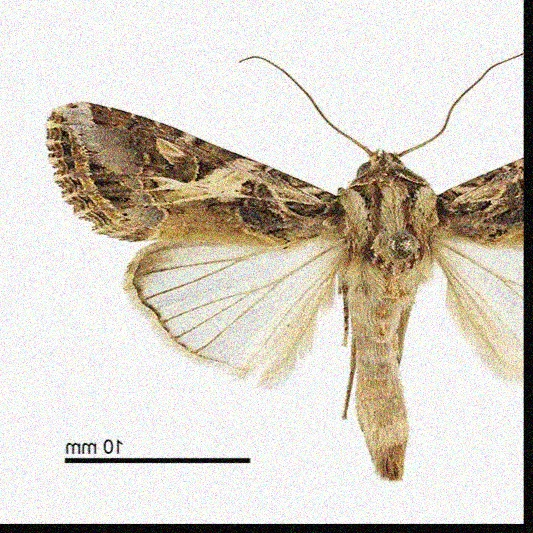Spodoptera litura: (43, 51, 522, 481)
